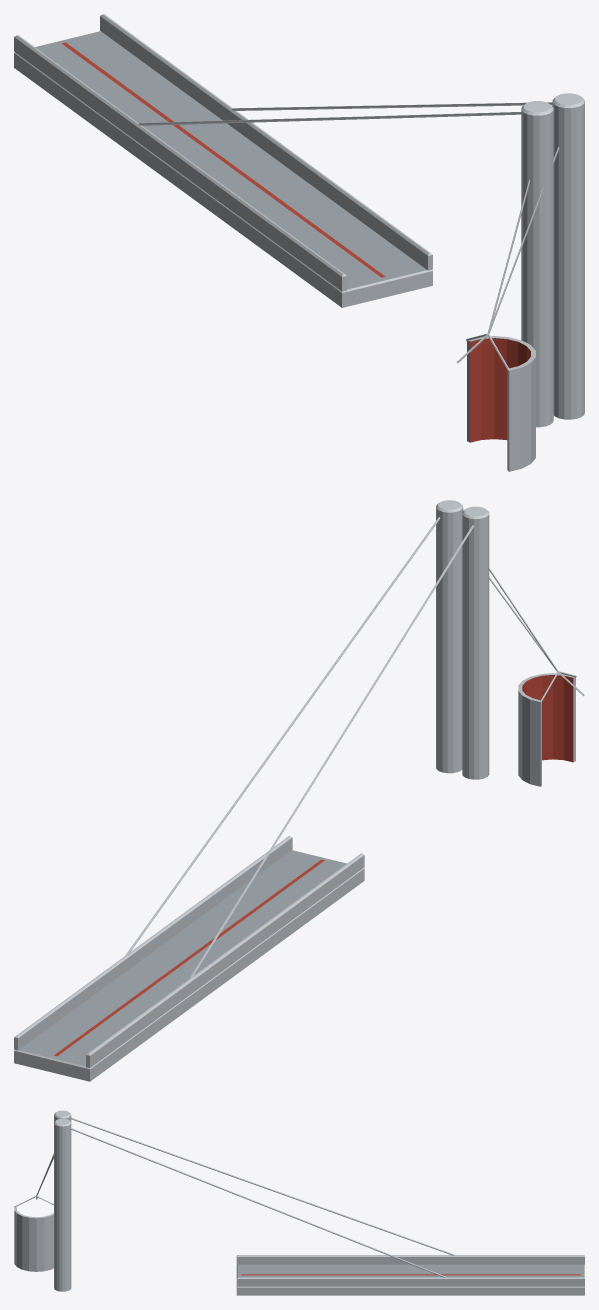
File: phx-soleri-bridge.glb
3 views of the same model, one above another, from view 1: azimuth 30°, elevation 25°; view 2: azimuth 150°, elevation 25°; view 3: azimuth 270°, elevation 25° (orthographic). The views are drawn at different scales.
Visible parts, largest first — view 1: Soleri Bridge; view 2: Soleri Bridge; view 3: Soleri Bridge.
Part boxes in pixels (x1,y1,x2,y2): Soleri Bridge: (14, 14, 584, 471); Soleri Bridge: (14, 500, 584, 1081); Soleri Bridge: (14, 1110, 584, 1295).
Size of the model in its own units: 11.64 by 21.1 by 65.6.
